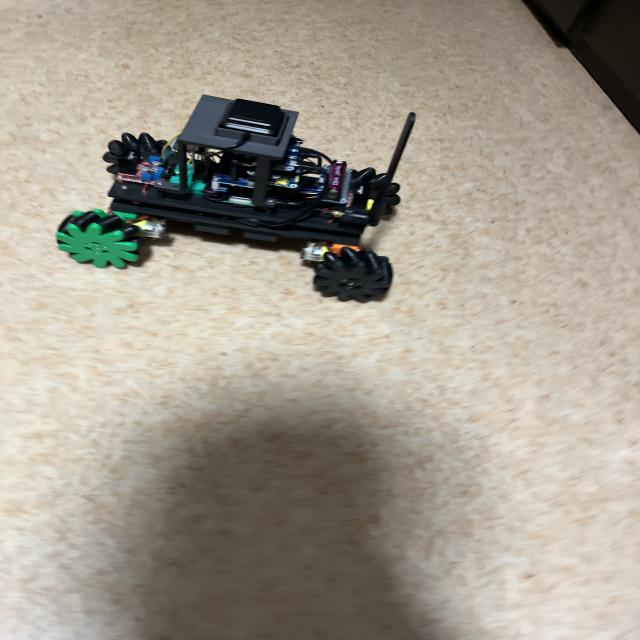robot: (55, 96, 415, 302)
